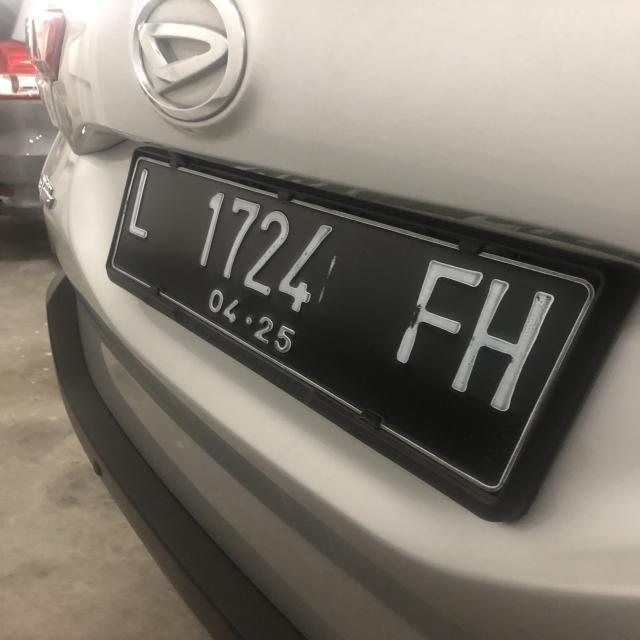1: (197, 190, 229, 270)
2: (243, 211, 293, 298)
4: (278, 220, 340, 314)
7: (222, 198, 260, 282)
F: (392, 241, 478, 370)
H: (451, 280, 556, 410)
L: (128, 169, 158, 240)
